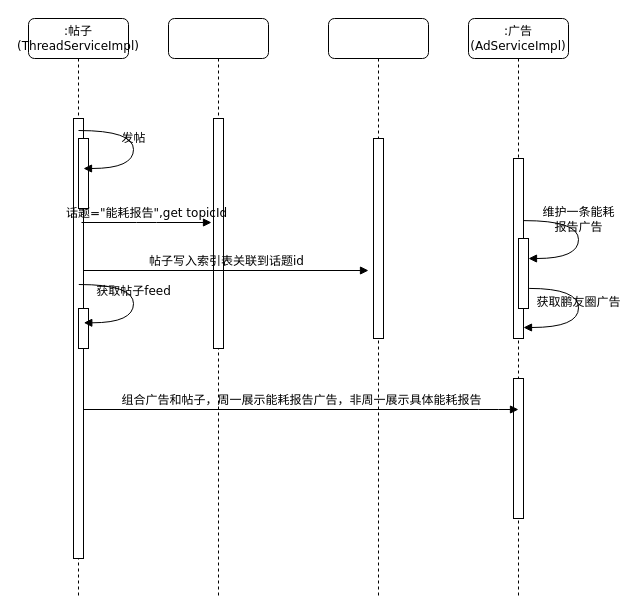
Some shapes in this 637 by 616 pixel diagram are drawn without their labels. The shapes that lost their labels are listed below. From the top down, each one's centre as x and y in pixels, then its label:
the point at 218,308: :话题(TopicServiceImp)
the point at 378,308: :索引表(ThreadIndex ServiceImpl)
